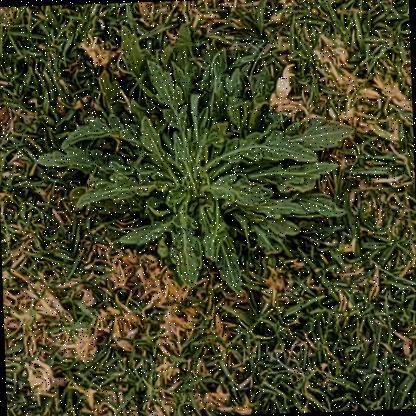Weeds: (35, 16, 359, 303)
